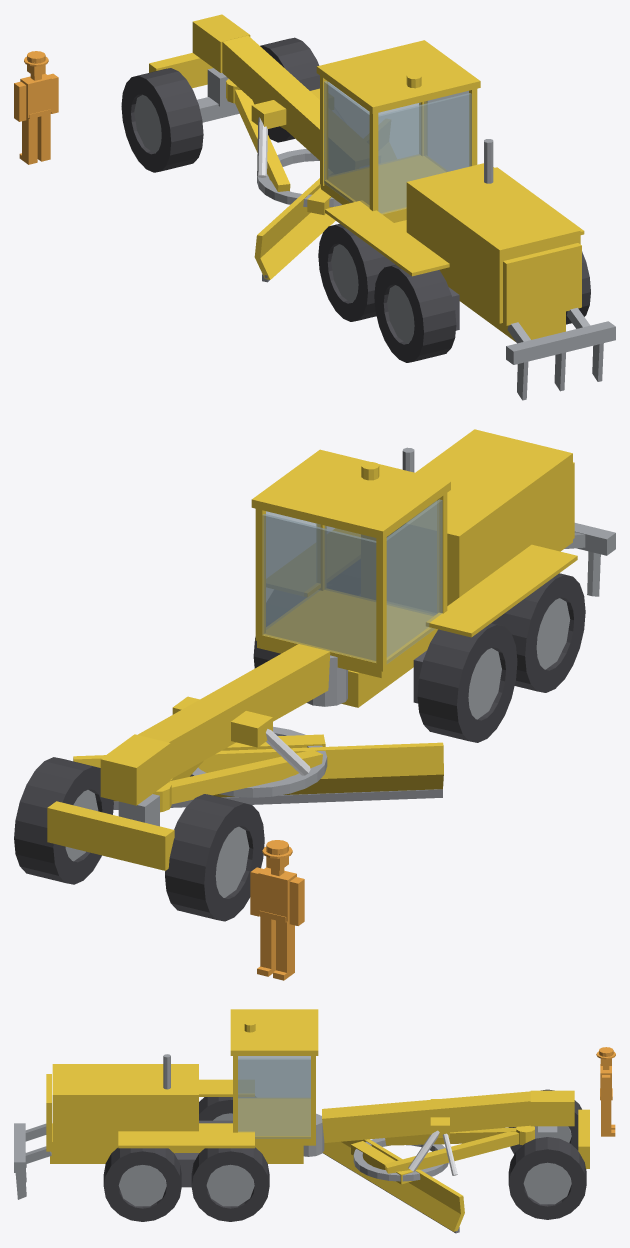
Rendered from grader.glb.
The picture shows the model from 3 angles, top to bottom: view 1: azimuth 30°, elevation 25°; view 2: azimuth 150°, elevation 25°; view 3: azimuth 270°, elevation 25°; orthographic projection. The views are drawn at different scales.
Parts seen in each view (by area): view 1: engine_hood, tyres, cab, cab_glass, front_frame, rear_frame, rear_ripper, moldboard, scale_figure, wheel_rims, drawbar, front_axle (+2 smaller); view 2: tyres, cab, cab_glass, front_frame, engine_hood, moldboard, rear_frame, wheel_rims, scale_figure, drawbar, blade_edge, circle (+3 smaller); view 3: tyres, engine_hood, front_frame, cab, cab_glass, wheel_rims, rear_frame, moldboard, drawbar, rear_ripper, circle, scale_figure (+3 smaller).
Part boxes in pixels (x1=…): engine_hood: x1=406, y1=163, x2=581, y2=325; tyres: x1=121, y1=37, x2=590, y2=362; cab: x1=316, y1=40, x2=480, y2=222; cab_glass: x1=324, y1=81, x2=471, y2=213; front_frame: x1=149, y1=14, x2=319, y2=160; rear_frame: x1=325, y1=167, x2=584, y2=341; rear_ripper: x1=506, y1=307, x2=615, y2=400; moldboard: x1=254, y1=178, x2=336, y2=279; scale_figure: x1=14, y1=51, x2=58, y2=164; wheel_rims: x1=134, y1=94, x2=414, y2=343; drawbar: x1=226, y1=79, x2=290, y2=191; front_axle: x1=197, y1=68, x2=239, y2=122; tyres: x1=14, y1=573, x2=585, y2=921; cab: x1=251, y1=449, x2=450, y2=677; cab_glass: x1=262, y1=499, x2=442, y2=663; front_frame: x1=47, y1=644, x2=330, y2=870; engine_hood: x1=361, y1=429, x2=574, y2=605; moldboard: x1=73, y1=734, x2=443, y2=801; rear_frame: x1=304, y1=528, x2=577, y2=707; wheel_rims: x1=65, y1=598, x2=570, y2=897; scale_figure: x1=250, y1=840, x2=304, y2=980; drawbar: x1=153, y1=750, x2=322, y2=812; blade_edge: x1=113, y1=789, x2=442, y2=809; circle: x1=190, y1=726, x2=327, y2=797; tyres: x1=103, y1=1089, x2=586, y2=1221; engine_hood: x1=46, y1=1064, x2=198, y2=1152; front_frame: x1=322, y1=1090, x2=589, y2=1168; cab: x1=230, y1=1009, x2=318, y2=1145; cab_glass: x1=238, y1=1056, x2=310, y2=1138; wheel_rims: x1=118, y1=1113, x2=571, y2=1206; rear_frame: x1=50, y1=1079, x2=303, y2=1163; moldboard: x1=323, y1=1139, x2=464, y2=1231; drawbar: x1=384, y1=1125, x2=534, y2=1173; rear_ripper: x1=14, y1=1123, x2=51, y2=1199; circle: x1=353, y1=1138, x2=448, y2=1181; scale_figure: x1=596, y1=1047, x2=615, y2=1136.
Bounding box in the file's own units: 5.3 × 3.78 × 12.34.
